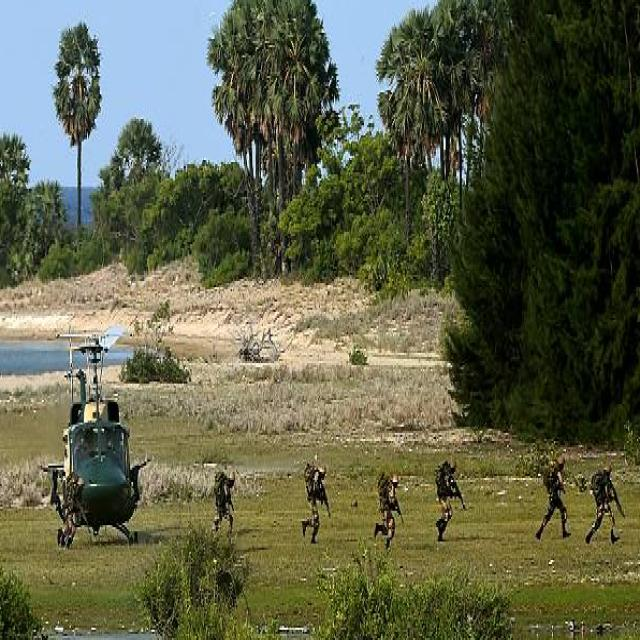soldier: (585, 466, 624, 542), (536, 455, 571, 539), (436, 460, 466, 540), (302, 462, 331, 542), (374, 473, 405, 547), (56, 474, 83, 548), (214, 472, 234, 538)
